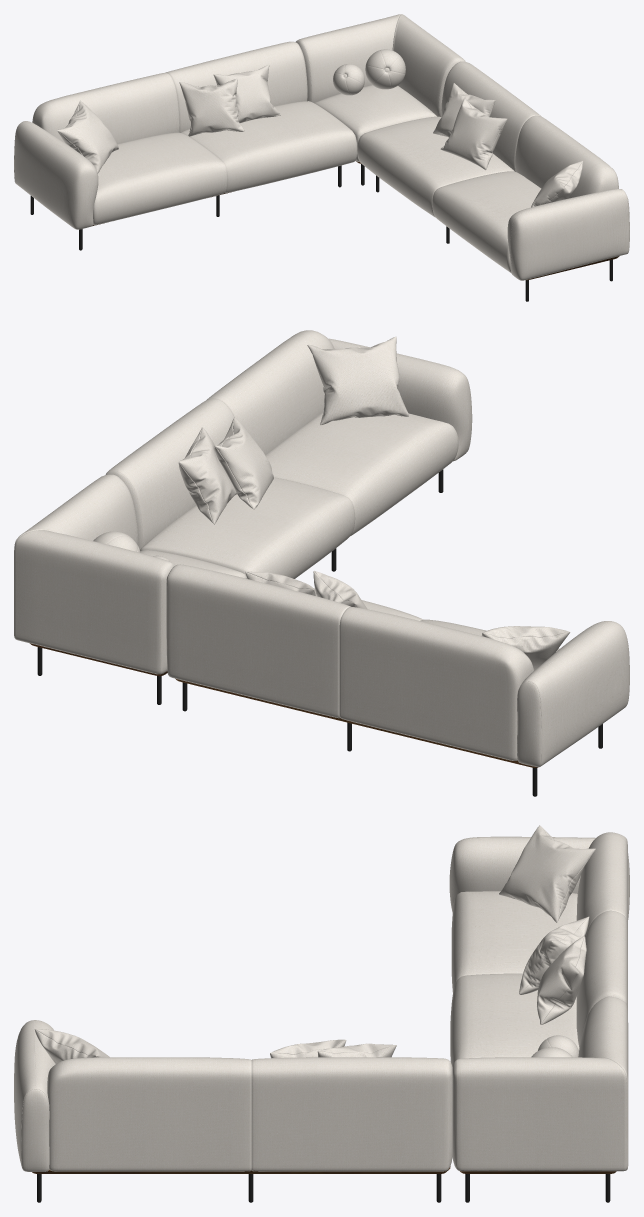
3 renders of one model, top to bottom at view 1: azimuth 30°, elevation 25°; view 2: azimuth 150°, elevation 25°; view 3: azimuth 270°, elevation 25°, orthographic. The views are drawn at different scales.
Visible parts, largest first — view 1: Box003, Cylinder002; view 2: Box003, Box008, Cylinder002; view 3: Box003, Box008, Cylinder002.
Part boxes in pixels (x1=…): Box003: x1=14, y1=14, x2=629, y2=280; Cylinder002: x1=30, y1=164, x2=612, y2=301; Box003: x1=14, y1=330, x2=629, y2=767; Box008: x1=30, y1=643, x2=537, y2=767; Cylinder002: x1=37, y1=469, x2=602, y2=796; Box003: x1=14, y1=825, x2=629, y2=1171; Box008: x1=32, y1=1166, x2=616, y2=1173; Cylinder002: x1=37, y1=1174, x2=610, y2=1202.
Bounding box in the file's own units: 31.95 × 8.3 × 32.12.
3 materials, 3 textured.
